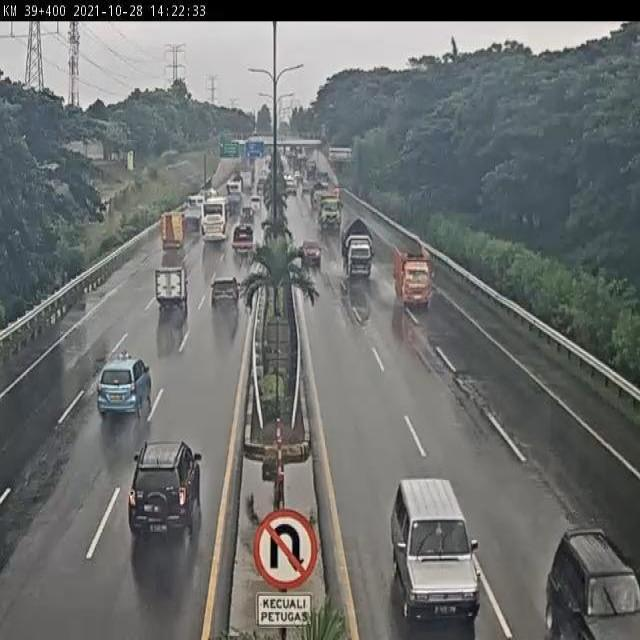ARABA: (385, 475, 480, 624), (539, 524, 640, 640), (127, 438, 203, 542), (94, 346, 159, 422), (208, 276, 239, 320), (298, 233, 322, 270), (228, 228, 250, 257), (243, 205, 258, 227), (251, 186, 264, 206)
KAMYONET: (388, 242, 438, 310), (339, 213, 375, 280), (148, 269, 188, 319), (157, 212, 186, 255), (230, 171, 251, 204)
OTOBUS: (200, 192, 242, 251)
TIR: (315, 190, 342, 230), (213, 184, 236, 223), (182, 193, 204, 232)
